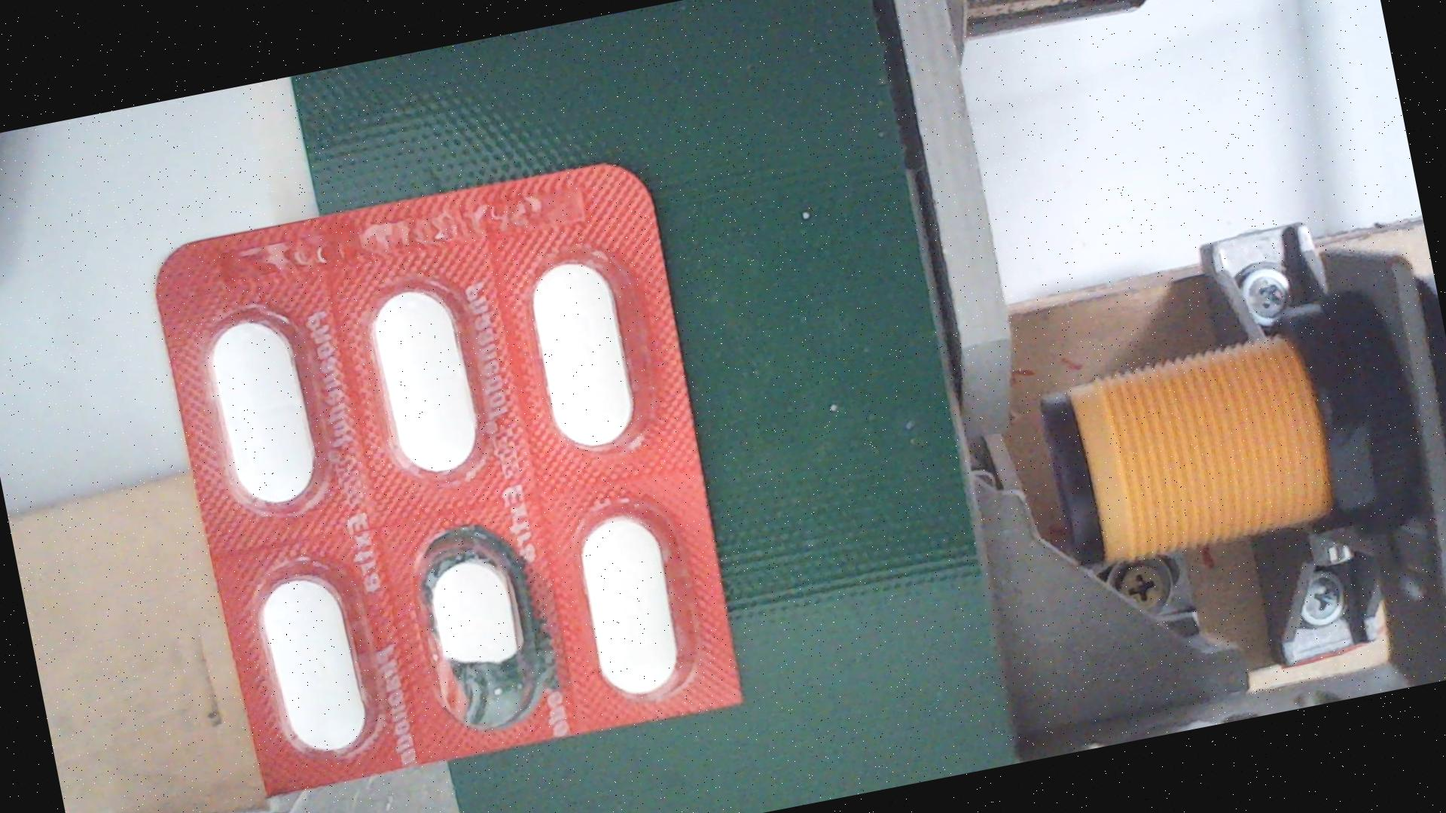Full: (505, 228, 654, 476), (356, 249, 505, 497), (189, 286, 338, 534), (236, 533, 384, 780), (555, 471, 703, 718)
Partial: (406, 506, 555, 753)
